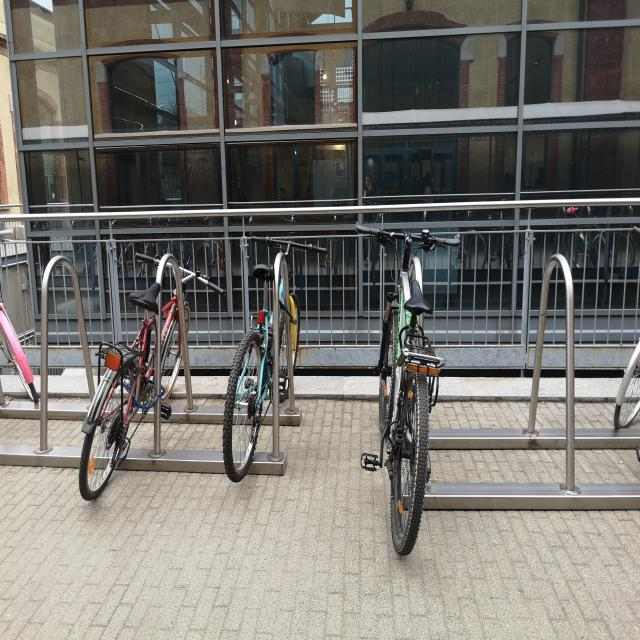Bicycle: (77, 262, 226, 538), (367, 157, 452, 586), (221, 208, 323, 510), (0, 250, 58, 456), (586, 269, 640, 485)
